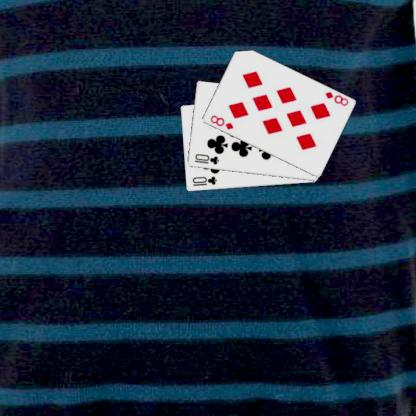10C: (192, 152, 220, 166), (189, 174, 218, 187)
8D: (322, 89, 349, 107), (207, 113, 235, 130)
